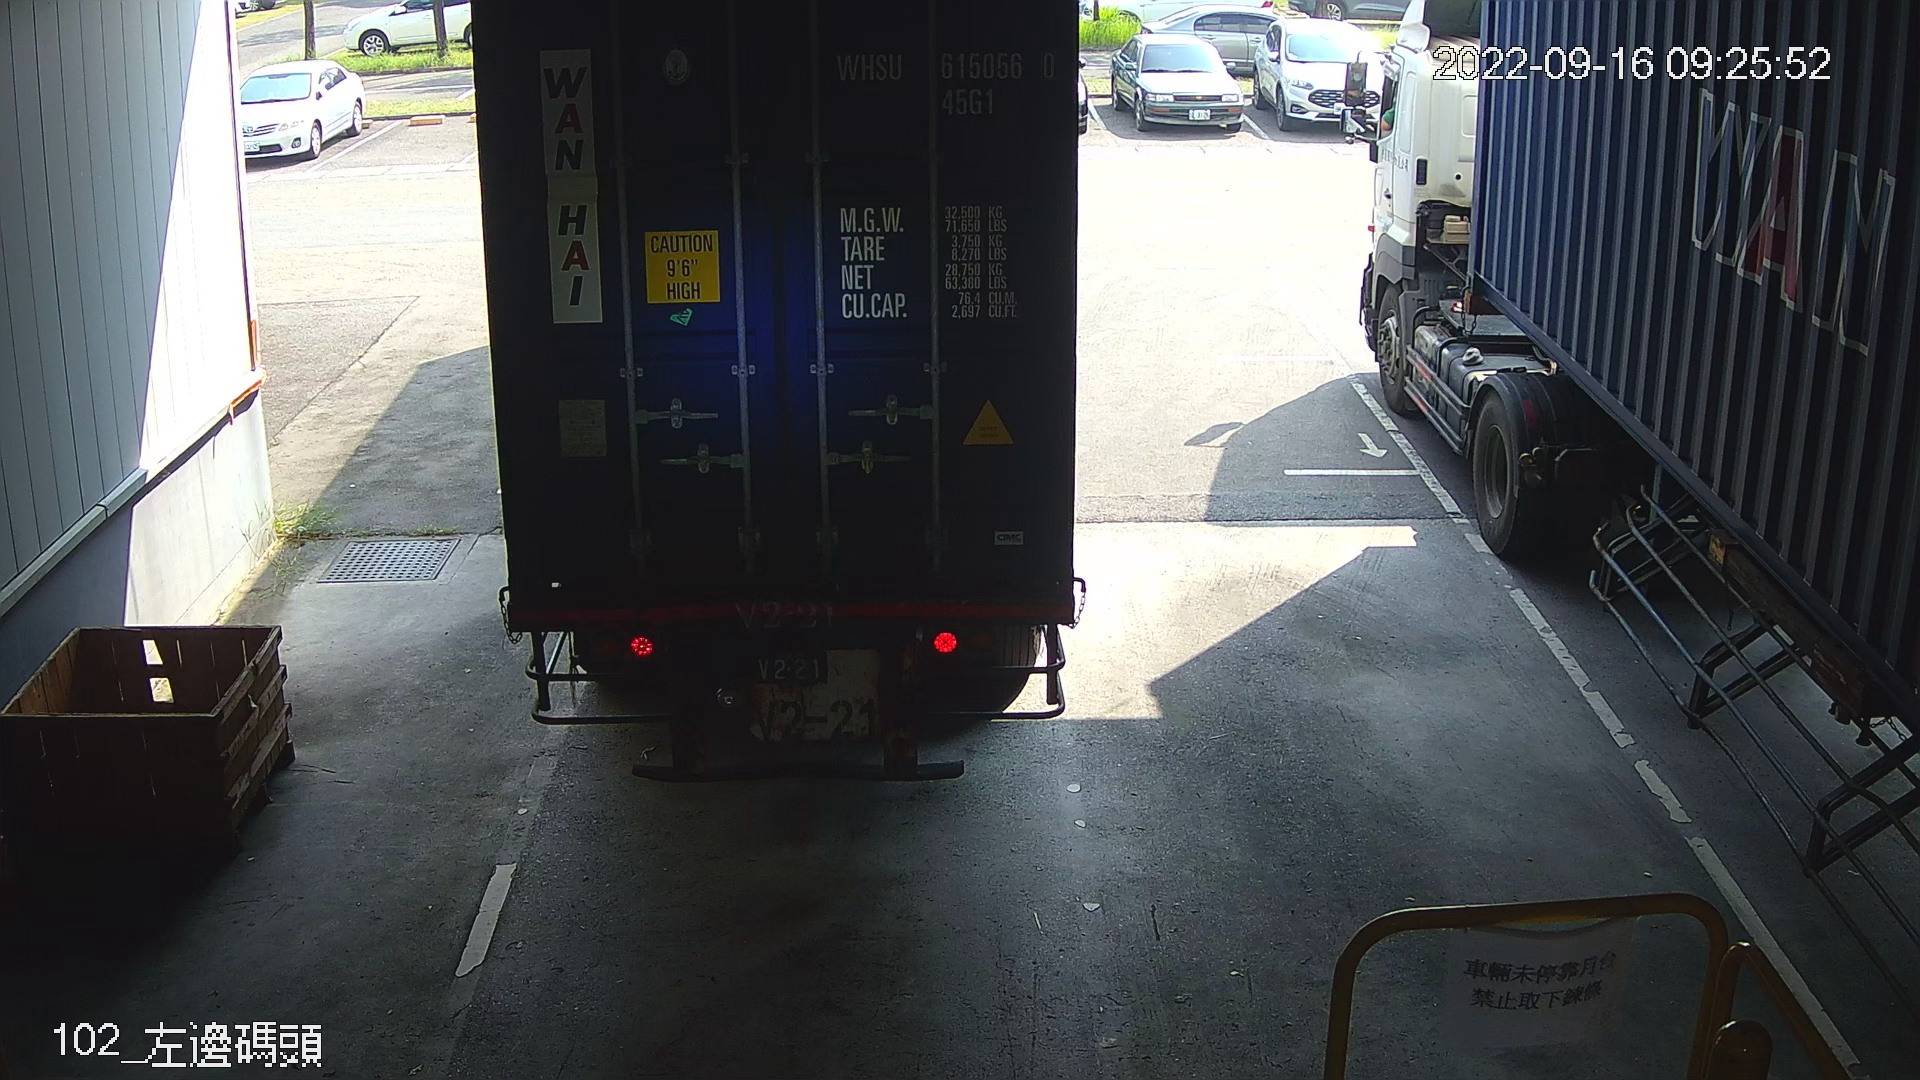container: (825, 41, 1067, 123)
